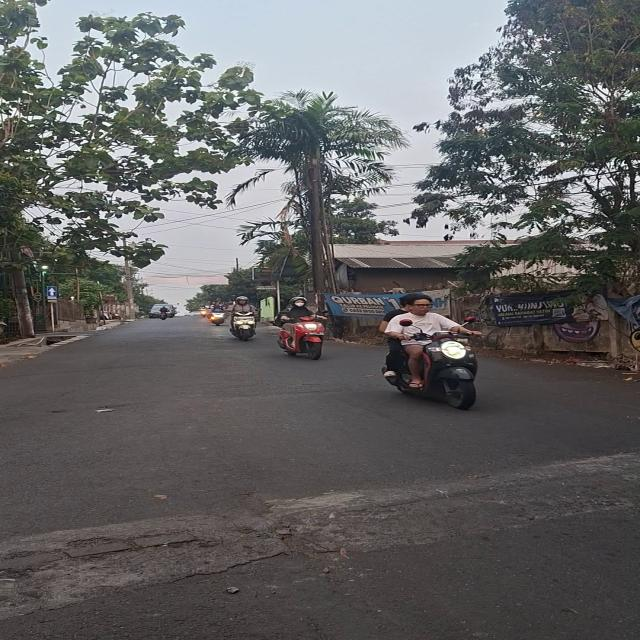WithHelmet: (278, 297, 329, 351), (225, 296, 260, 334)
WithoutHelmet: (381, 294, 482, 411)
